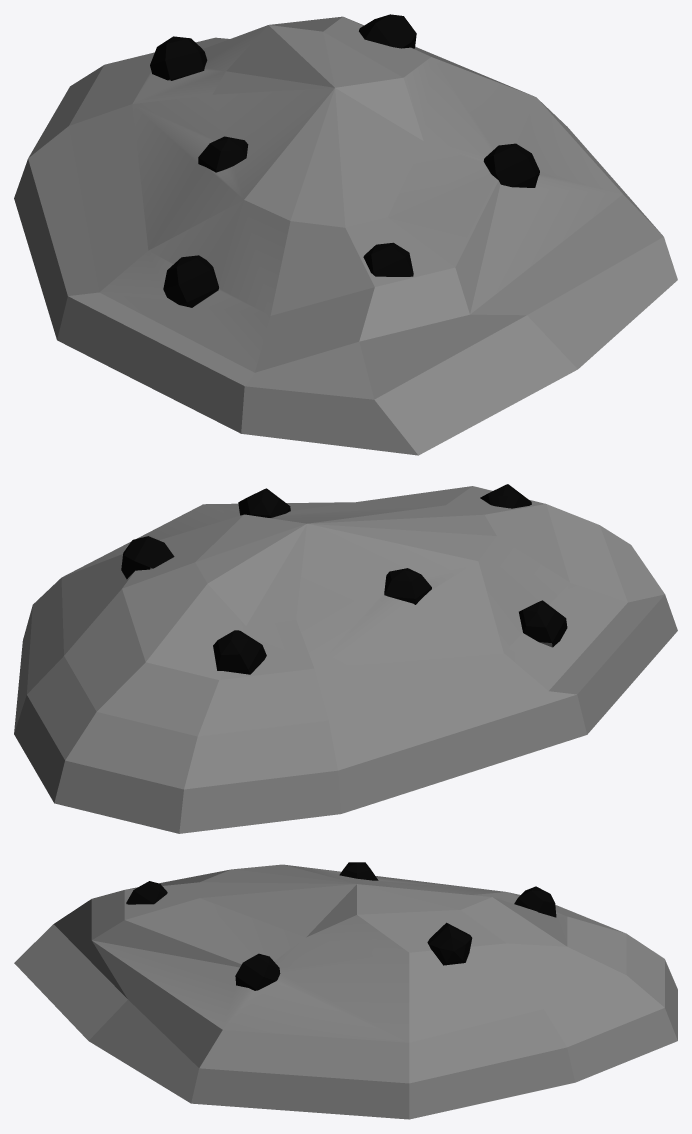
File: iron_ore.fbx
3 views of the same model, one above another, from view 1: azimuth 30°, elevation 25°; view 2: azimuth 150°, elevation 25°; view 3: azimuth 270°, elevation 25° (orthographic). The views are drawn at different scales.
Parts seen in each view (by area): view 1: pSphere8; view 2: pSphere8; view 3: pSphere8.
Part boxes in pixels (x1,y1,x2,y2): pSphere8: (14,14,677,455); pSphere8: (14,484,677,833); pSphere8: (14,862,677,1119).
Bounding box in the file's own units: 6.17 × 1.79 × 8.09.
